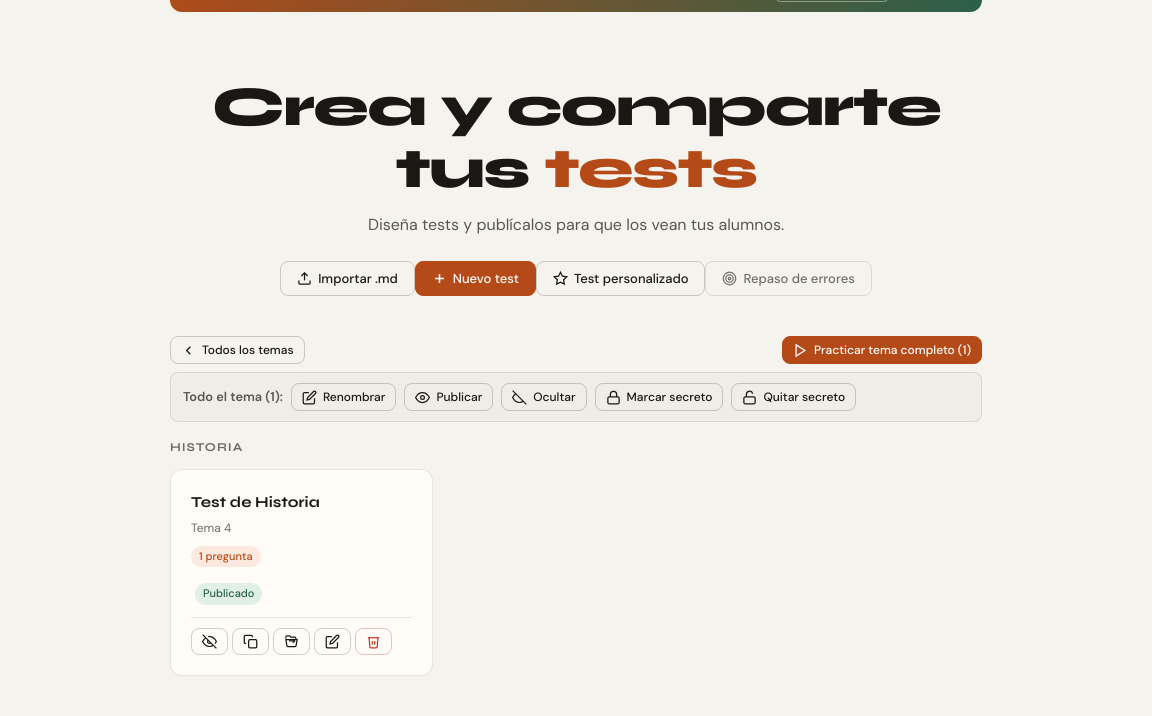
Test: HomeView — mover un test de tema › al pulsarlo se abre el diálogo
(page scrolled)
Click the button named "Mover a otro tema": click(292, 642) [273,628,310,655]
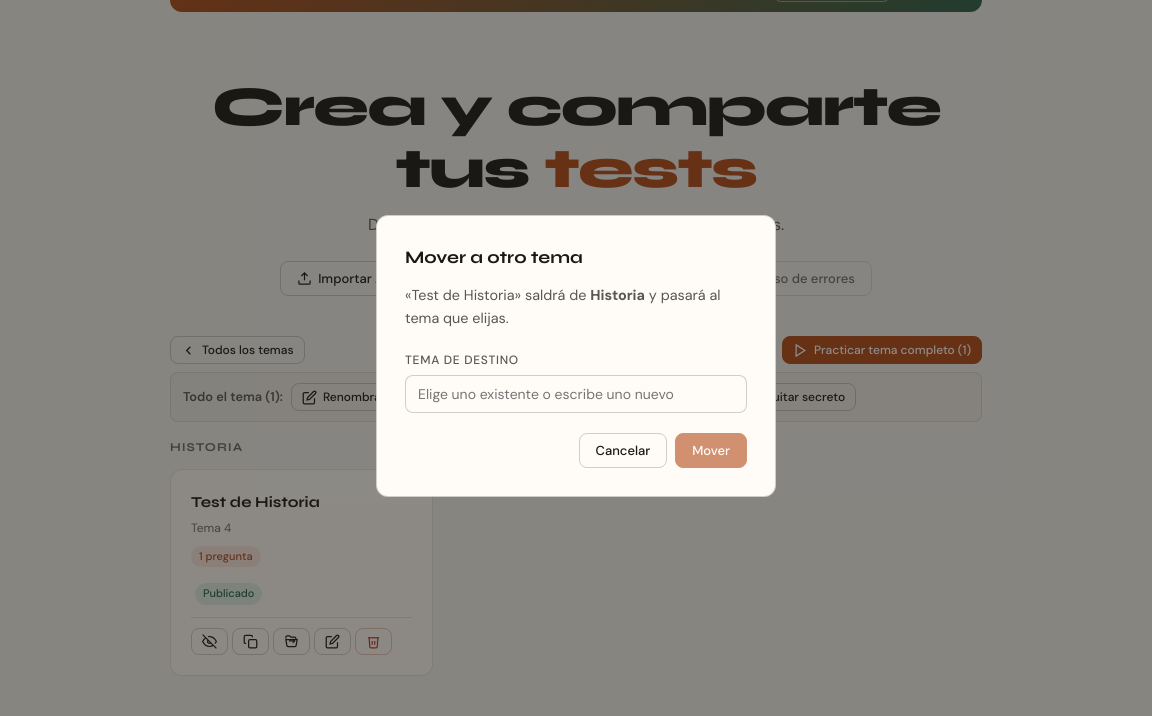
Expected: the element with class "move-topic-modal" is shown, [376,215,776,497]
